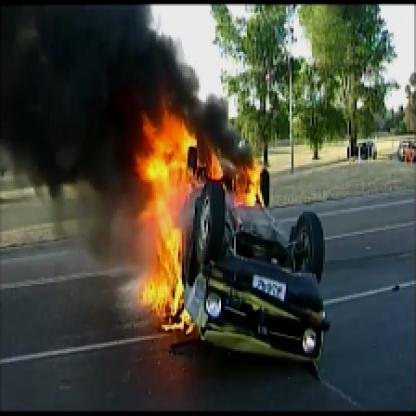Fire: (113, 89, 280, 334)
